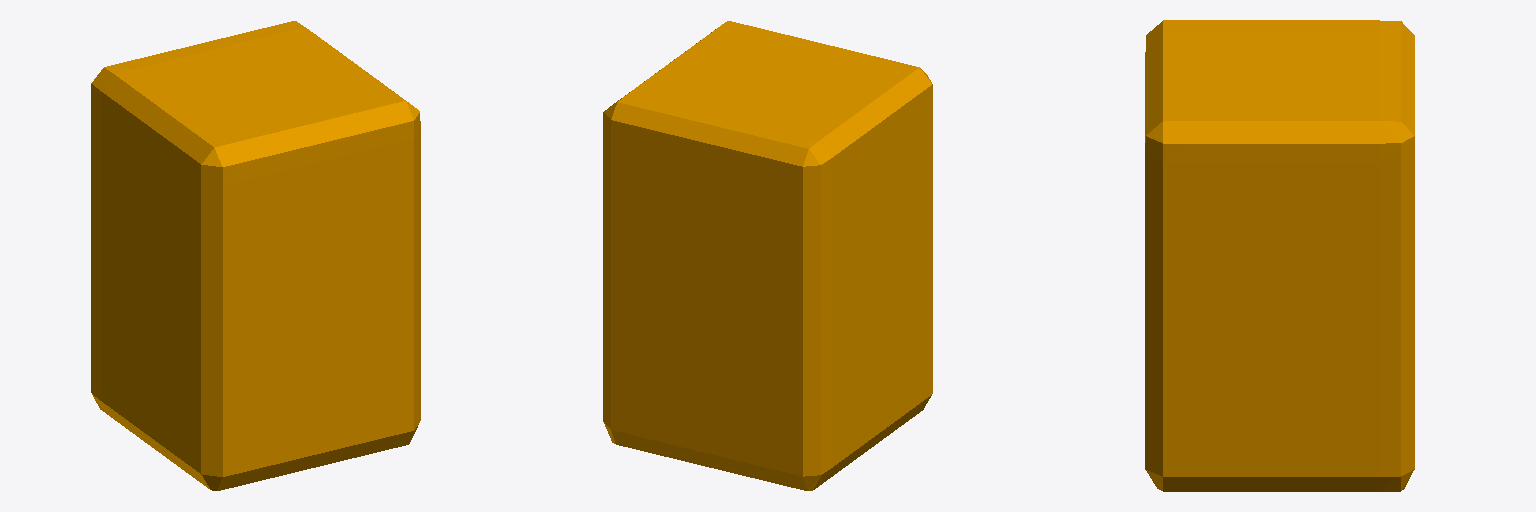
The robot description file, URDF, robot "cylinder_box_27":
<?xml version="1.0" encoding="utf-8"?>  <robot name="cylinder_box_27">   <link name="cylinder_box_27">     <visual>       <geometry>         <mesh filename="../meshes/box/box_27.stl" scale="1 1 1"/>       </geometry>     </visual>     <collision>       <geometry>         <mesh filename="../meshes/box/box_27.stl" scale="1 1 1"/>       </geometry>     </collision>     <inertial>        <origin         xyz="0 0 0"         rpy="0 0 0" />       <mass value="0.36250209035060266"/>       <origin rpy="0 0 0" xyz="0 0 0"/>       <inertia ixx="0.000377613345449973" ixy="1.3866573709538085e-08" ixz="6.848673336763373e-08" iyy="0.0003801381500498287" iyz="-1.3656004198009274e-08" izz="0.0002315511421219097"/>     </inertial>   </link>  </robot>

--- Facts derived from the render (not from the file) ---
3 views of the same robot in one strip: view 1: azimuth 30°, elevation 25°; view 2: azimuth 150°, elevation 25°; view 3: azimuth 270°, elevation 25° (orthographic).
Model cylinder_box_27 with 1 links and 0 joints (none), rooted at cylinder_box_27, posed every joint at zero.
Links seen in each view (by area): view 1: cylinder_box_27; view 2: cylinder_box_27; view 3: cylinder_box_27.
Link boxes in pixels (bbox=[...]): cylinder_box_27: bbox=[91, 21, 420, 490]; cylinder_box_27: bbox=[603, 21, 932, 490]; cylinder_box_27: bbox=[1145, 20, 1414, 491].
Bounding box of the posed robot: 0.0629 × 0.0622 × 0.0942 m (x, y, z).
1 mesh visuals loaded from 1 distinct referenced files (1 binary STL).